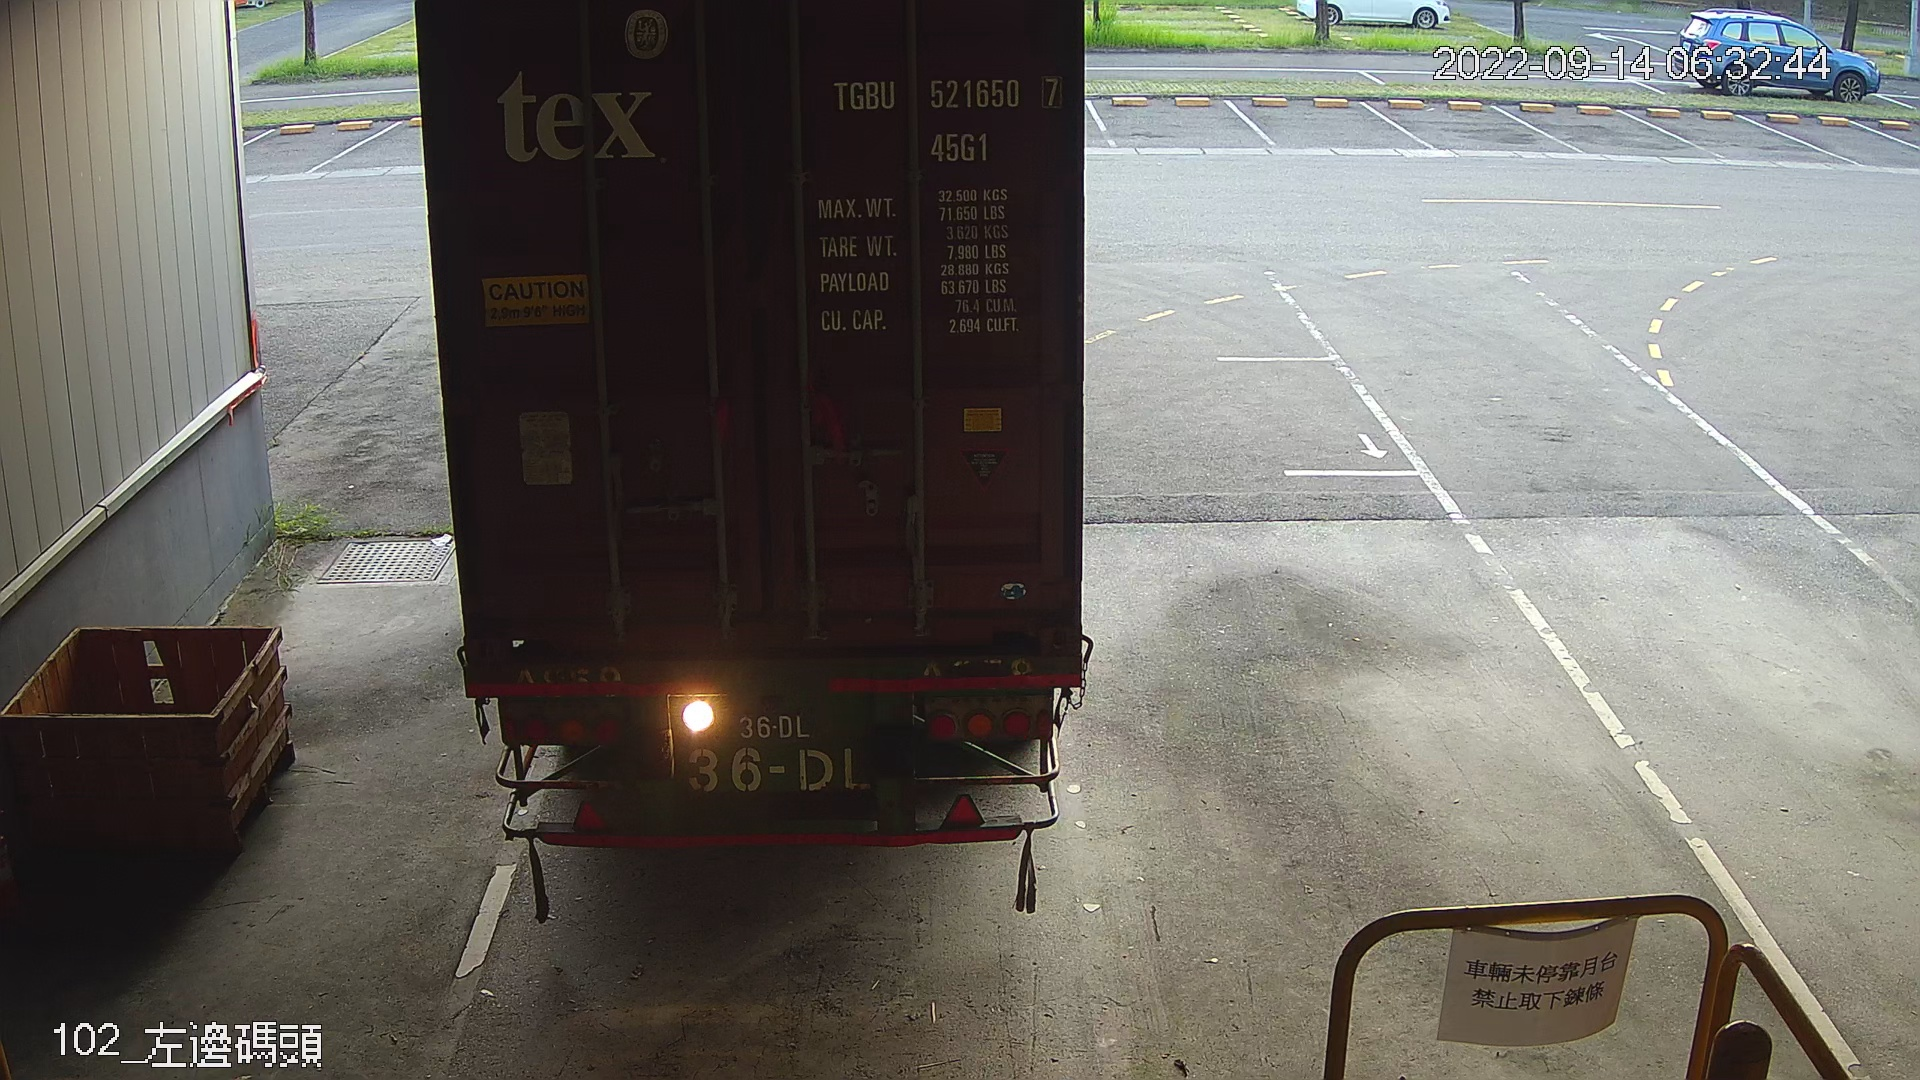container: (822, 66, 1069, 170)
